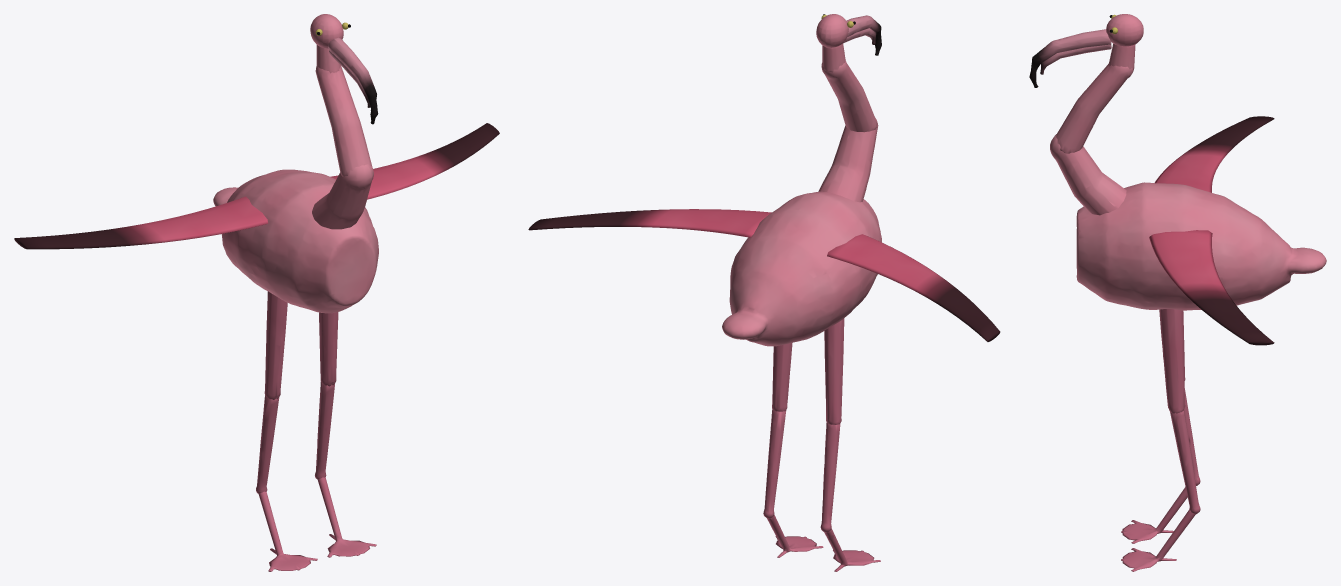
Rendered from flamingo.glb.
3 views of the same model, side by side, from view 1: azimuth 30°, elevation 25°; view 2: azimuth 150°, elevation 25°; view 3: azimuth 270°, elevation 25° (orthographic). The views are drawn at different scales.
Parts seen in each view (by area): view 1: fl_body_mesh, fl_wingN_mesh, fl_wingP_mesh, fl_neckB_mesh, fl_neckA_mesh, fl_thighN_mesh, fl_thighP_mesh, fl_shankN_mesh, fl_bill_mesh, fl_shankP_mesh, fl_footP_mesh, fl_footN_mesh (+1 smaller); view 2: fl_body_mesh, fl_wingN_mesh, fl_wingP_mesh, fl_neckA_mesh, fl_neckB_mesh, fl_thighN_mesh, fl_shankN_mesh, fl_shankP_mesh, fl_thighP_mesh, fl_head_mesh, fl_footN_mesh, fl_footP_mesh; view 3: fl_body_mesh, fl_wingP_mesh, fl_wingN_mesh, fl_neckA_mesh, fl_neckB_mesh, fl_thighP_mesh, fl_bill_mesh, fl_shankP_mesh, fl_footP_mesh, fl_footN_mesh, fl_head_mesh, fl_neckC_mesh (+2 smaller).
Part boxes in pixels (<box>): fl_body_mesh: <box>213,169,378,313</box>; fl_wingN_mesh: <box>14,196,268,249</box>; fl_wingP_mesh: <box>330,123,499,199</box>; fl_neckB_mesh: <box>315,65,372,176</box>; fl_neckA_mesh: <box>312,164,373,229</box>; fl_thighN_mesh: <box>264,291,287,399</box>; fl_thighP_mesh: <box>319,312,338,386</box>; fl_shankN_mesh: <box>256,395,279,493</box>; fl_bill_mesh: <box>328,37,378,124</box>; fl_shankP_mesh: <box>315,382,334,479</box>; fl_footP_mesh: <box>317,477,376,557</box>; fl_footN_mesh: <box>258,491,317,571</box>; fl_body_mesh: <box>722,191,881,346</box>; fl_wingN_mesh: <box>827,234,1000,341</box>; fl_wingP_mesh: <box>528,209,771,237</box>; fl_neckA_mesh: <box>818,118,878,202</box>; fl_neckB_mesh: <box>821,61,877,132</box>; fl_thighN_mesh: <box>824,318,844,424</box>; fl_shankN_mesh: <box>820,423,840,532</box>; fl_shankP_mesh: <box>763,409,786,518</box>; fl_thighP_mesh: <box>772,342,792,411</box>; fl_head_mesh: <box>816,14,848,47</box>; fl_footN_mesh: <box>824,528,880,571</box>; fl_footP_mesh: <box>767,515,823,557</box>; fl_body_mesh: <box>1076,182,1326,310</box>; fl_wingP_mesh: <box>1149,230,1274,345</box>; fl_wingN_mesh: <box>1154,116,1274,192</box>; fl_neckA_mesh: <box>1050,134,1126,215</box>; fl_neckB_mesh: <box>1056,64,1133,153</box>; fl_thighP_mesh: <box>1159,309,1185,413</box>; fl_bill_mesh: <box>1029,29,1111,87</box>; fl_shankP_mesh: <box>1170,410,1200,514</box>; fl_footP_mesh: <box>1121,509,1195,571</box>; fl_footN_mesh: <box>1121,487,1187,543</box>; fl_head_mesh: <box>1106,14,1143,46</box>; fl_neckC_mesh: <box>1108,44,1135,69</box>.
Size of the model in its own units: 1.44 by 1.59 by 0.8069.
